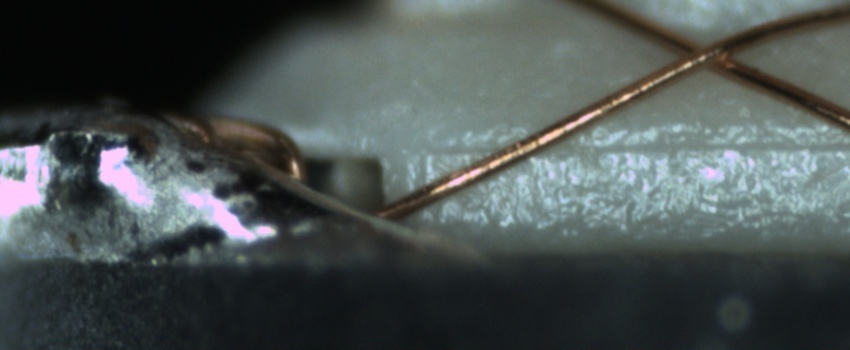CL: (655, 24, 750, 80)
DL: (422, 119, 850, 177)
TE: (157, 105, 314, 189)
